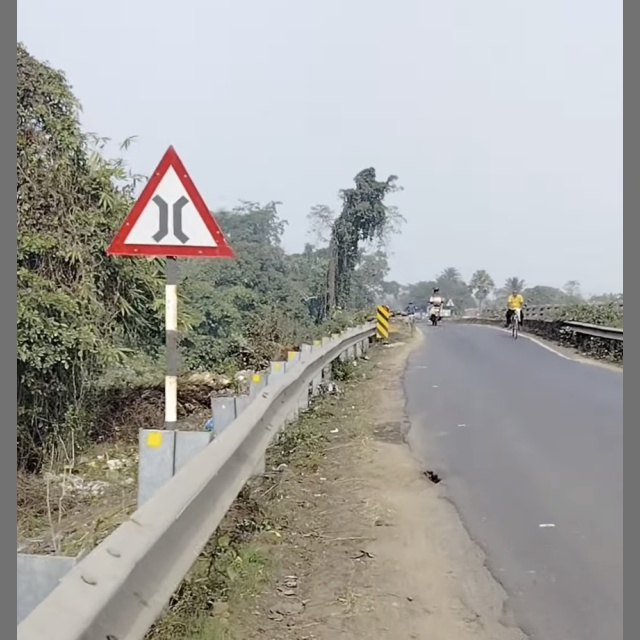Slippery_Road: (137, 126, 297, 301)
